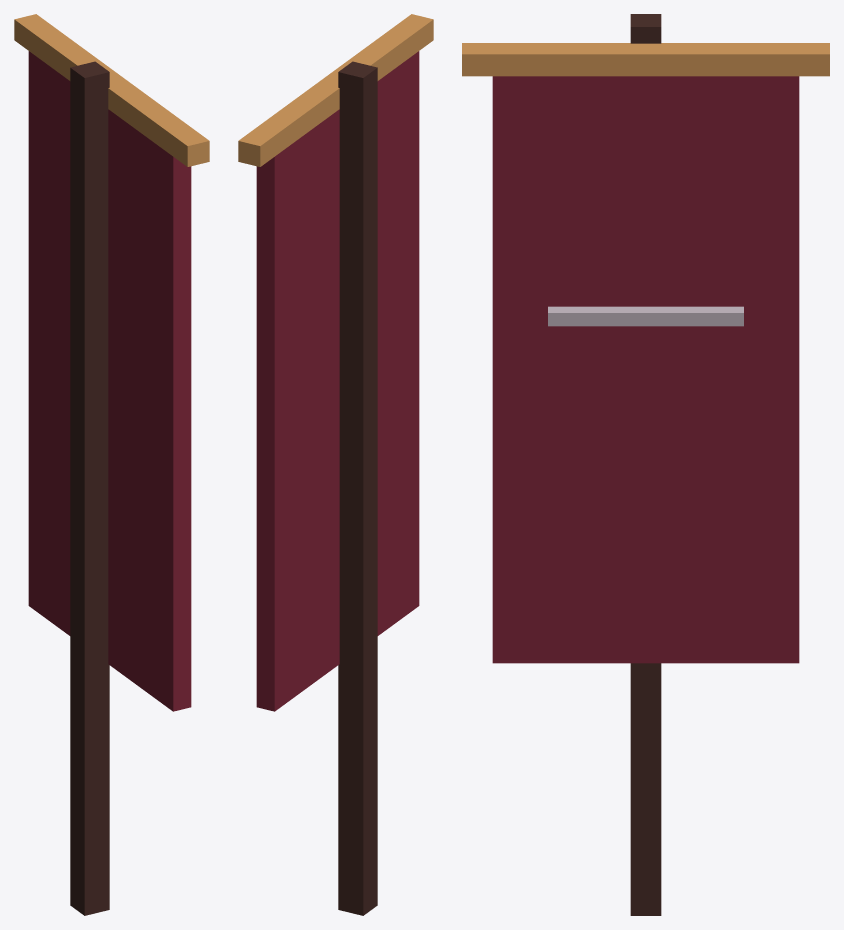
The model's file is dojo_clan_banner.obj.
3 renders of one model, left to right at view 1: azimuth 30°, elevation 25°; view 2: azimuth 150°, elevation 25°; view 3: azimuth 270°, elevation 25°, orthographic. The views are drawn at different scales.
Parts seen in each view (by area): view 1: dojo_clan_banner_01, dojo_clan_banner_00, dojo_clan_banner_02; view 2: dojo_clan_banner_01, dojo_clan_banner_00, dojo_clan_banner_02; view 3: dojo_clan_banner_01, dojo_clan_banner_02, dojo_clan_banner_00, dojo_clan_banner_03.
Part boxes in pixels (x1=…): dojo_clan_banner_01: x1=28, y1=51, x2=191, y2=711; dojo_clan_banner_00: x1=70, y1=61, x2=109, y2=915; dojo_clan_banner_02: x1=14, y1=14, x2=209, y2=166; dojo_clan_banner_01: x1=256, y1=51, x2=419, y2=711; dojo_clan_banner_00: x1=338, y1=61, x2=377, y2=915; dojo_clan_banner_02: x1=238, y1=14, x2=433, y2=166; dojo_clan_banner_01: x1=492, y1=76, x2=799, y2=663; dojo_clan_banner_02: x1=462, y1=43, x2=829, y2=76; dojo_clan_banner_00: x1=630, y1=14, x2=661, y2=915; dojo_clan_banner_03: x1=548, y1=306, x2=743, y2=326.
Bounding box in the file's own units: 0.535 × 8 × 3.
